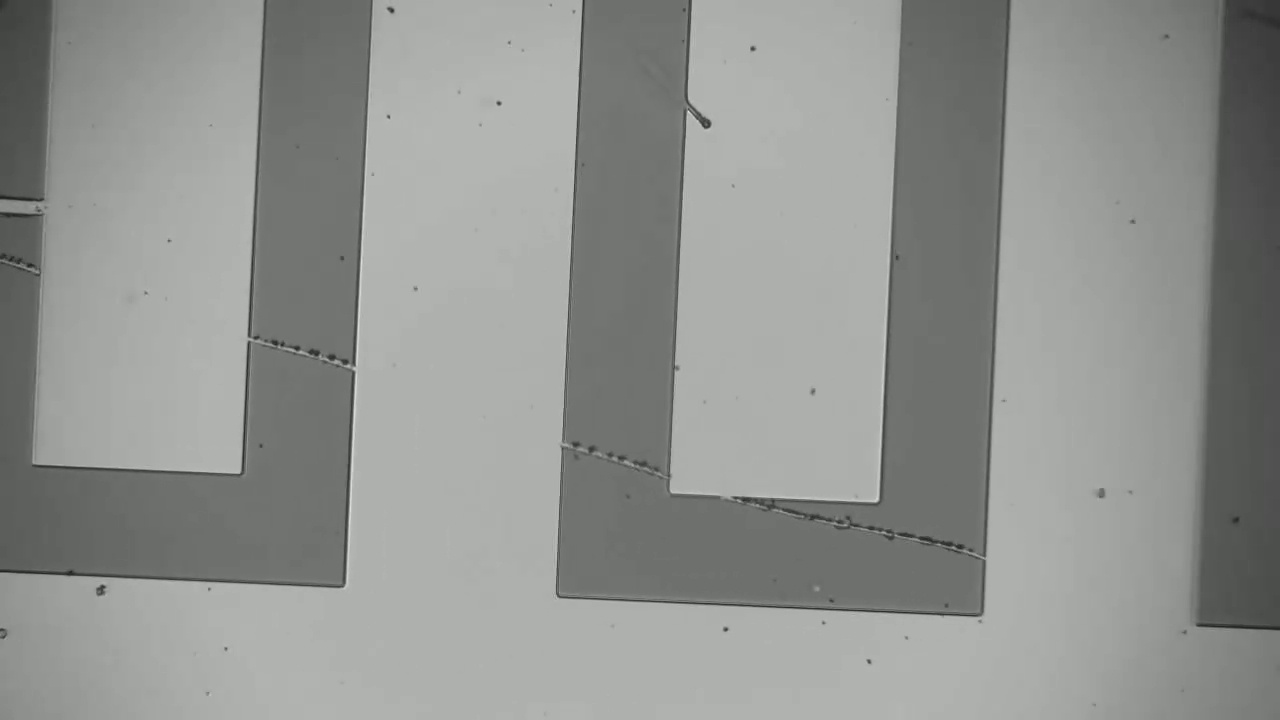Short_circuit: (0, 170, 65, 236)
scratch: (758, 506, 972, 552), (257, 326, 345, 366), (575, 436, 655, 473)
